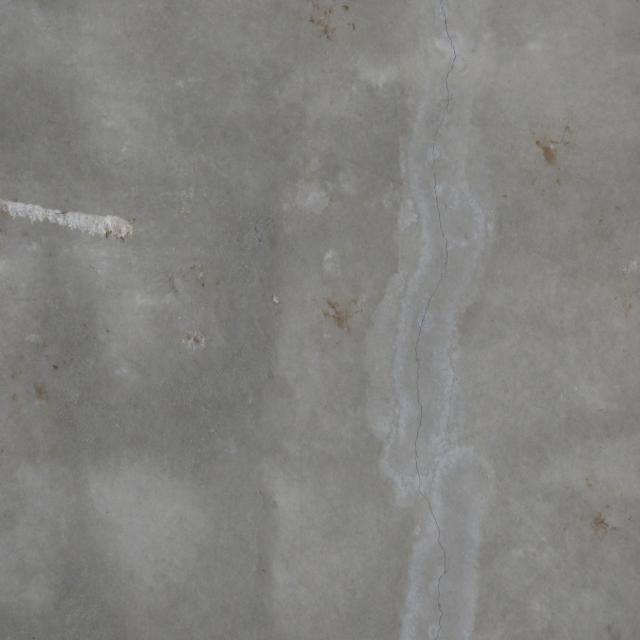vertical crack: (412, 0, 458, 640)
